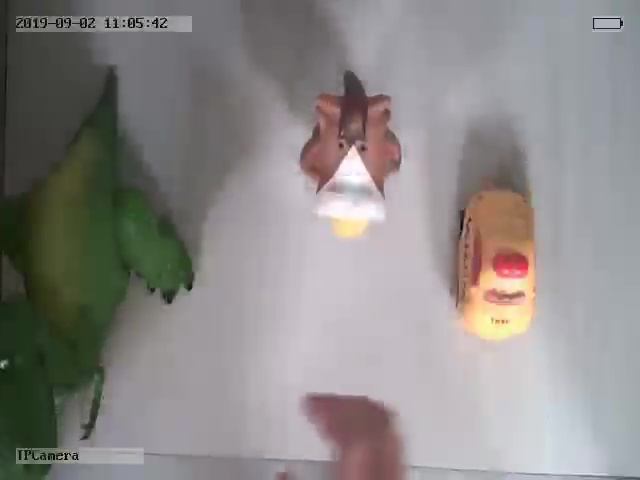car: (454, 185, 538, 343)
horse: (300, 71, 403, 241)
